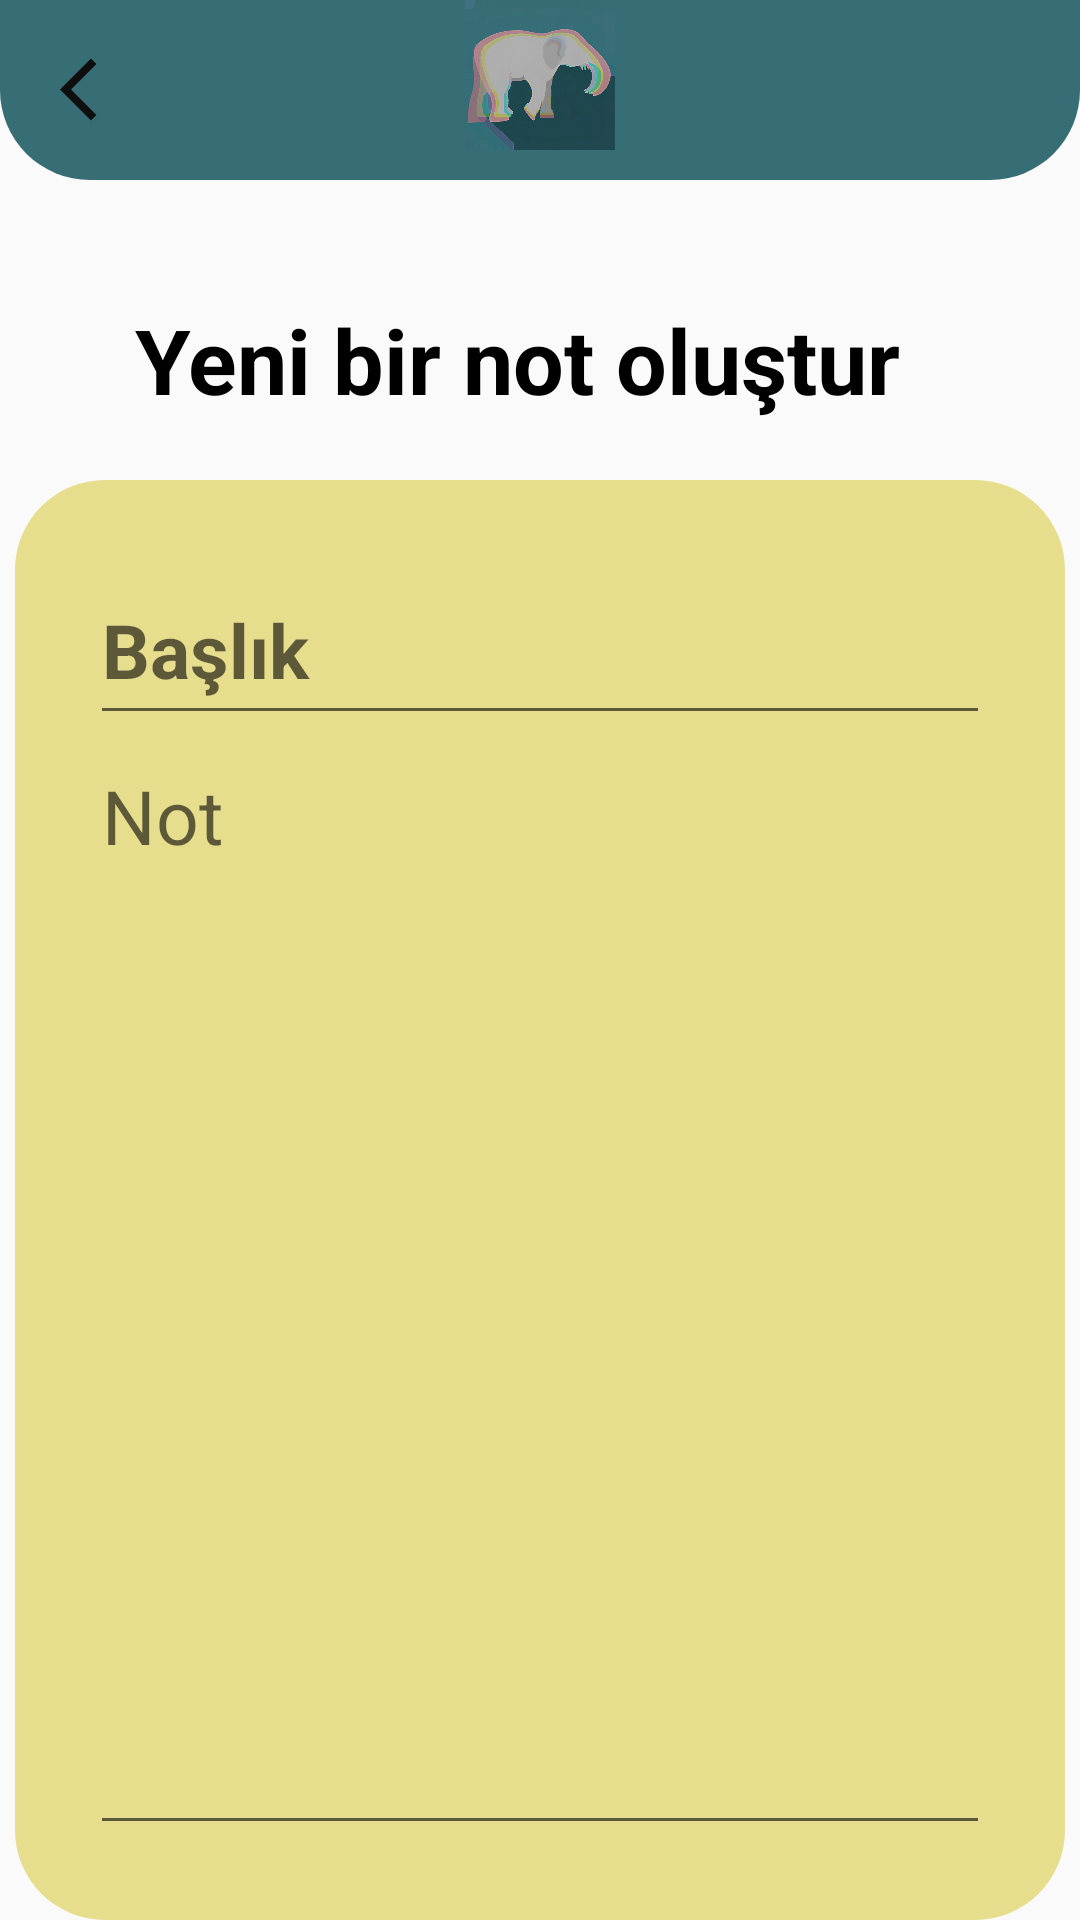

Where icons sit on this 1080px×1920px app screen, as Rect(x1, y1, x2, y2):
back: Rect(60, 59, 96, 120)
